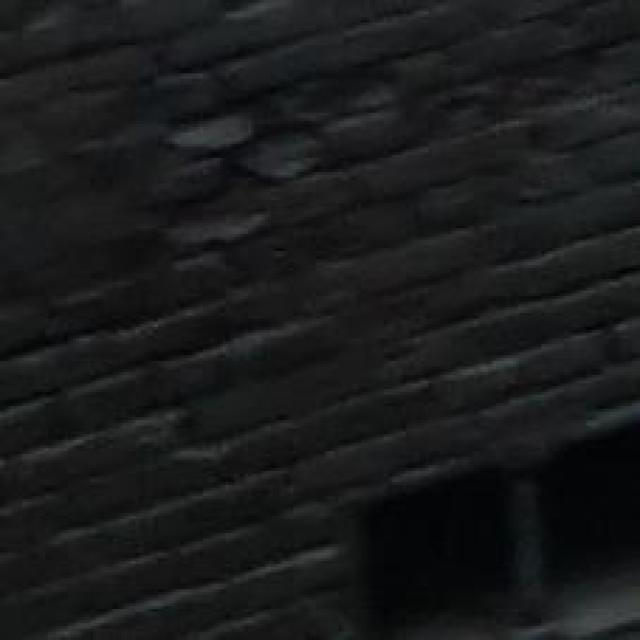Crack: (104, 27, 454, 260)
